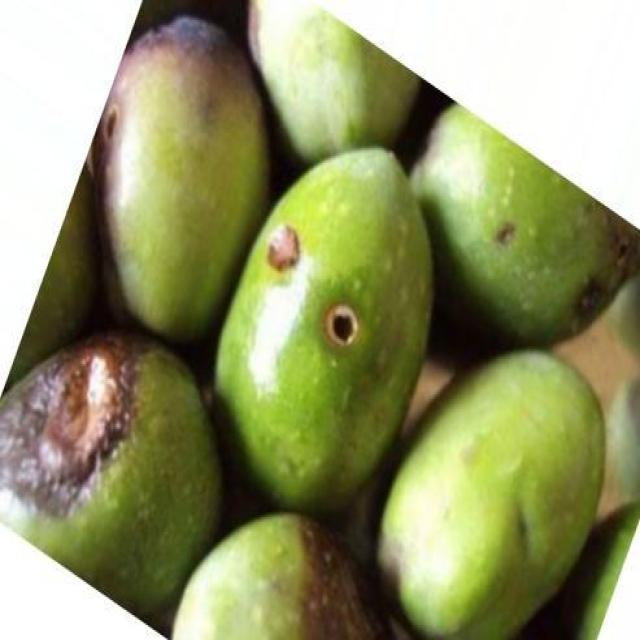Olive Fruit Fly: (217, 148, 431, 509), (0, 334, 215, 605), (92, 17, 267, 337), (421, 105, 639, 342)
